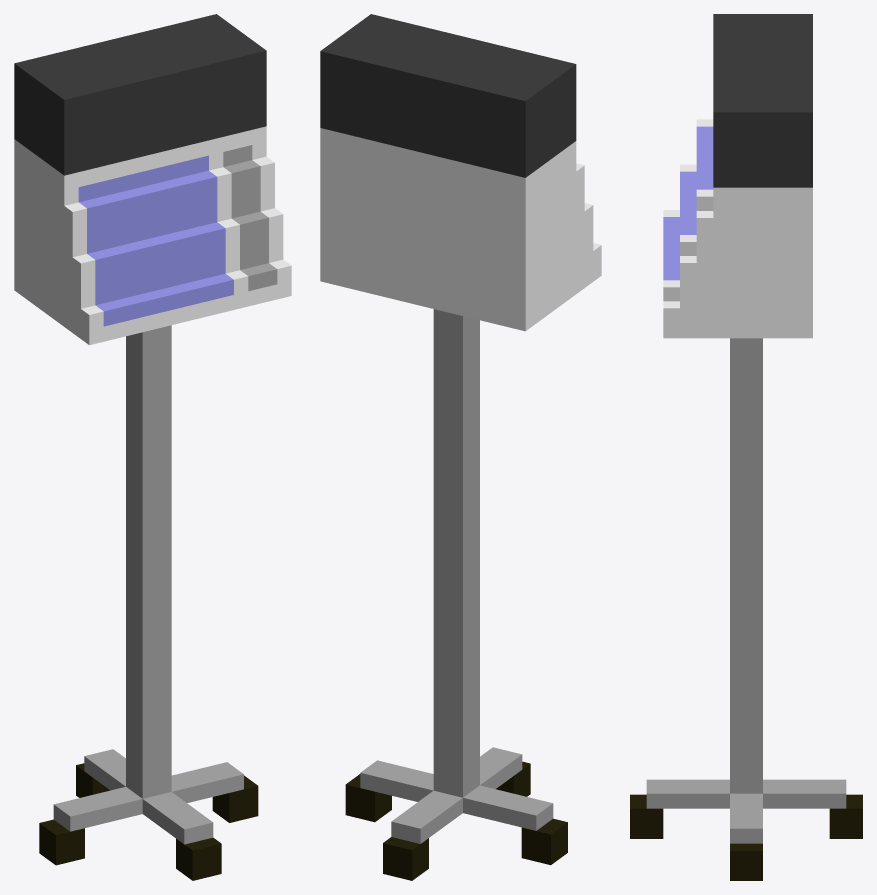
File: Operating_room_Equip1-1.fbx
3 views of the same model, side by side, from view 1: azimuth 30°, elevation 25°; view 2: azimuth 150°, elevation 25°; view 3: azimuth 270°, elevation 25° (orthographic).
Parts seen in each view (by area): view 1: Operating room Equip1-1.001; view 2: Operating room Equip1-1.001; view 3: Operating room Equip1-1.001.
Boxes of the visible parts, x1=… form: Operating room Equip1-1.001: x1=14, y1=14, x2=291, y2=880; Operating room Equip1-1.001: x1=320, y1=14, x2=601, y2=880; Operating room Equip1-1.001: x1=630, y1=14, x2=862, y2=880.
Size of the model in its own units: 140 by 510 by 140.
